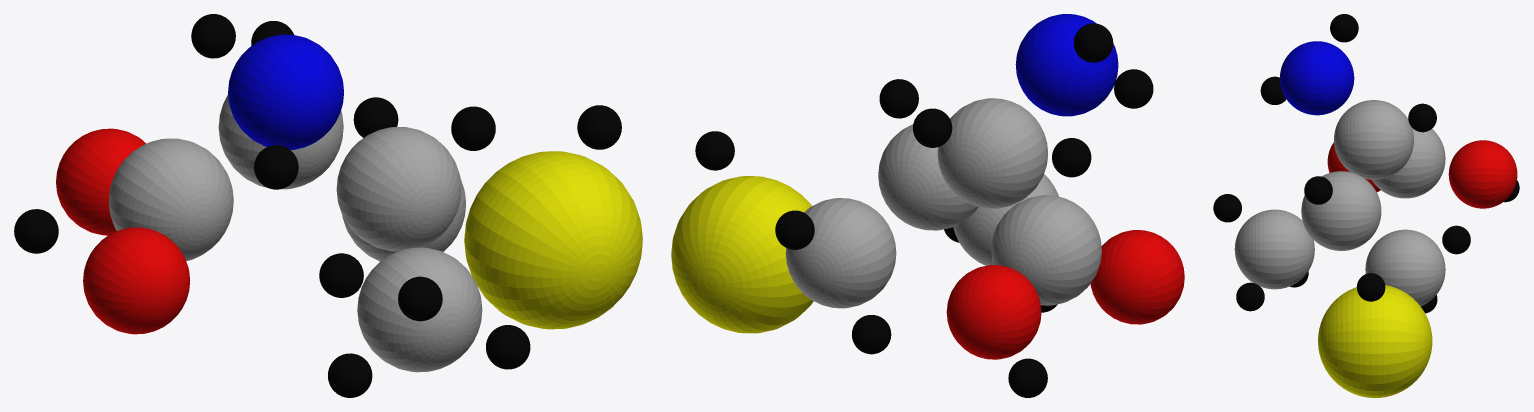
File: Methionine.glb
The picture shows the model from 3 angles, left to right: view 1: azimuth 30°, elevation 25°; view 2: azimuth 150°, elevation 25°; view 3: azimuth 270°, elevation 25°; orthographic projection. The views are drawn at different scales.
Visible parts, largest first — view 1: world; view 2: world; view 3: world.
Part boxes in pixels (x1=…): world: x1=14, y1=14, x2=642, y2=397; world: x1=671, y1=14, x2=1184, y2=397; world: x1=1213, y1=14, x2=1519, y2=397.
Bounding box in the file's own units: 7.12 × 5.08 × 5.35.
